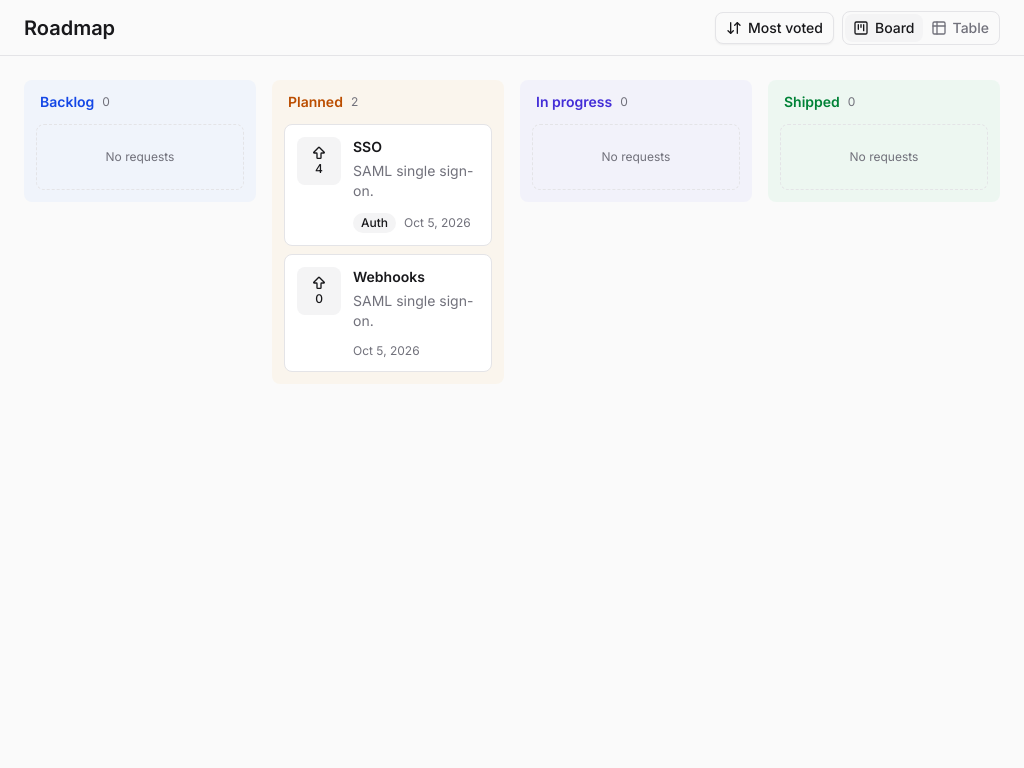
Scenario: opens a card with its votes, author and fields
Step 1. Click the button "SSO" → (388, 185), box [284, 124, 492, 246]
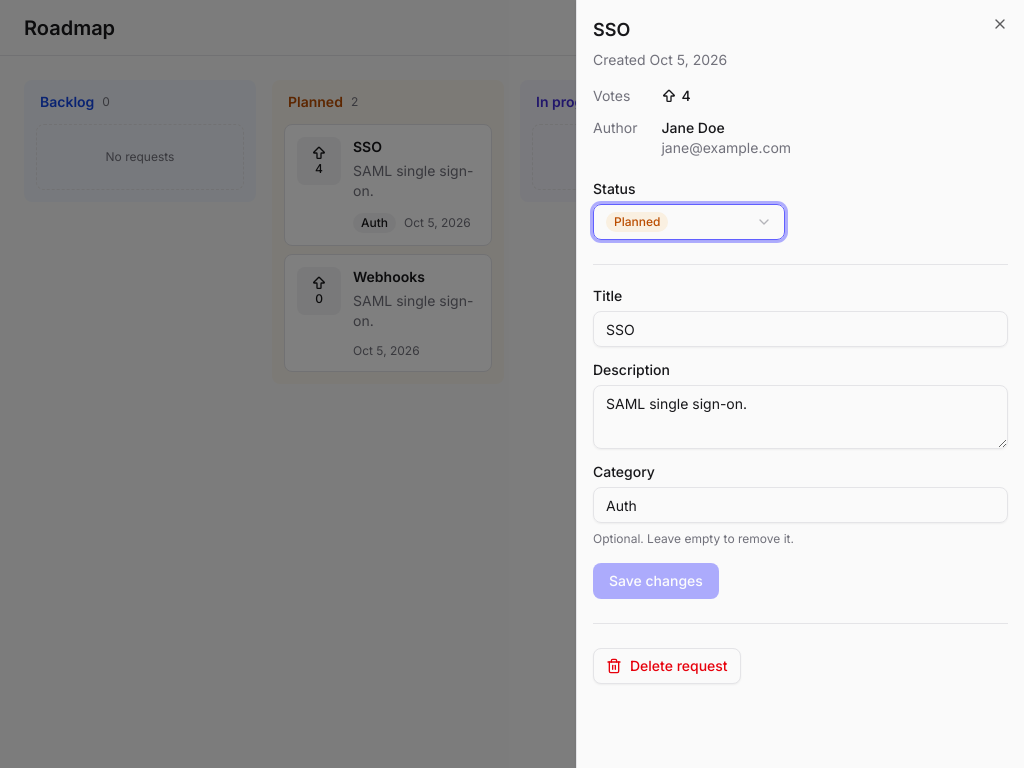
Expected: the text "4" is shown, [662, 87, 691, 104]
Expected: the text "Jane Doe" is shown, [662, 119, 725, 136]
Expected: the field labelled "Title" holds "SSO", [593, 311, 1008, 347]
